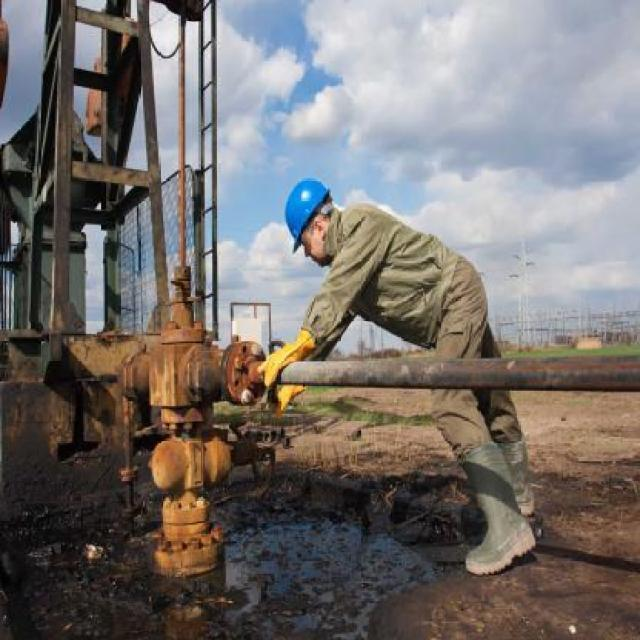helmet: (274, 176, 332, 243)
no-vest: (340, 194, 484, 360)
